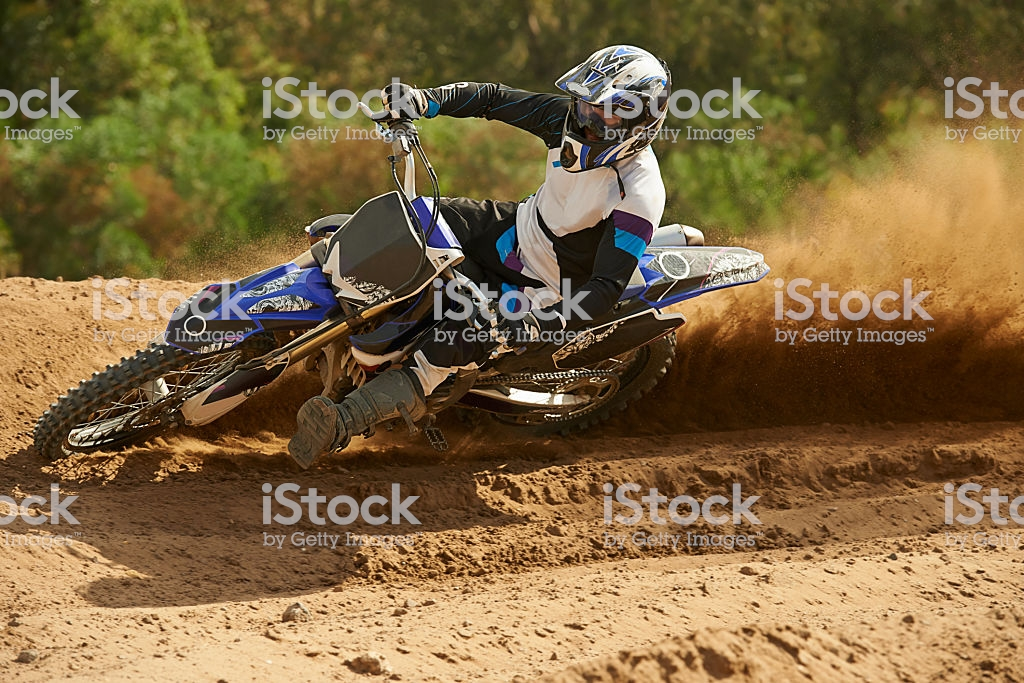helmet: (557, 27, 671, 174)
